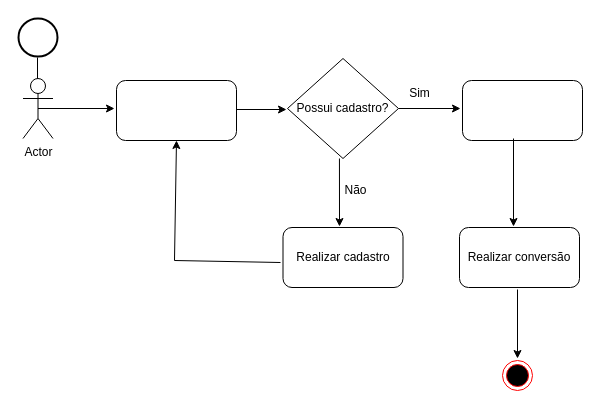
Some shapes in this 600 by 408 pixel diagram are drawn without their labels. The centre of each missing label's shape, as x and y in pixels:
"Fazer login" goes at pixel 176 110.
"Informar o valor" goes at pixel 522 110.
